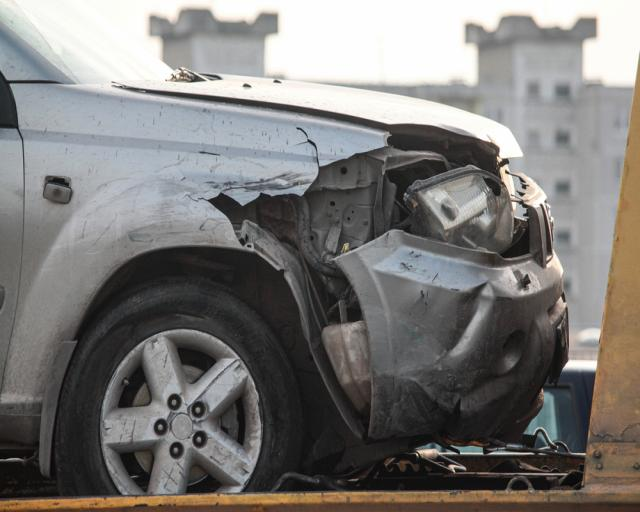crack: (290, 127, 320, 167)
dent: (446, 282, 493, 355)
lamp broken: (415, 169, 514, 252)
scratch: (204, 171, 315, 191)
